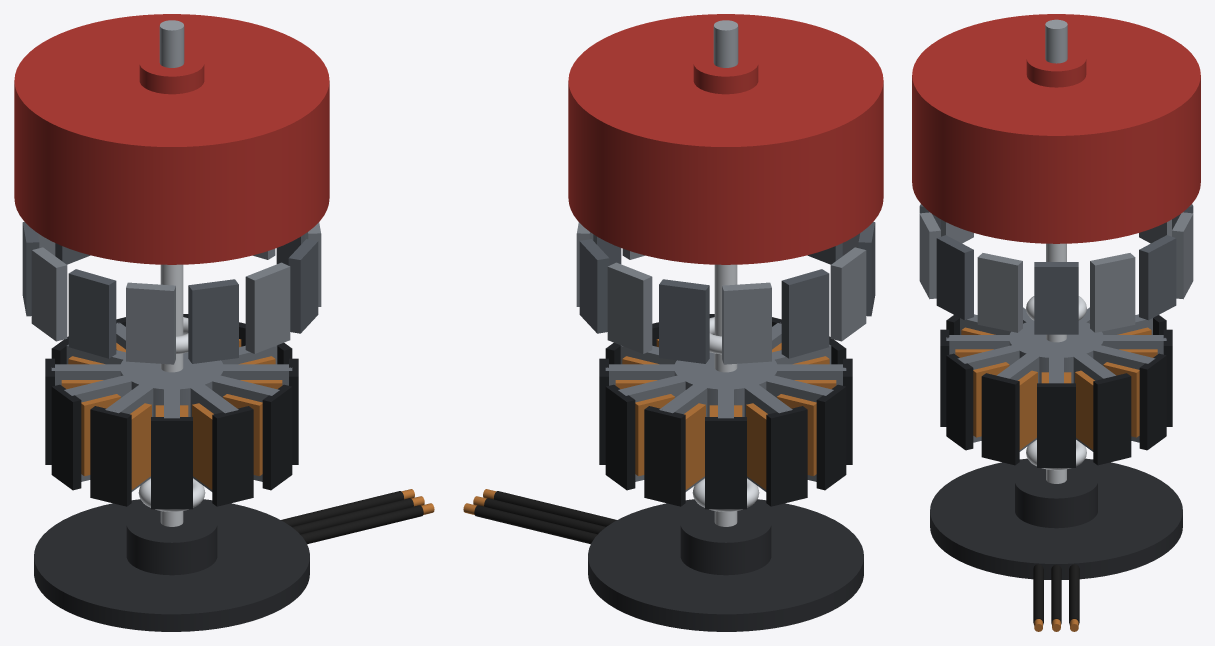
Rendered from motor.glb.
3 views of the same model, side by side, from view 1: azimuth 30°, elevation 25°; view 2: azimuth 150°, elevation 25°; view 3: azimuth 270°, elevation 25° (orthographic). The views are drawn at different scales.
Visible parts, largest first — view 1: bell_wall, stator, bell_top, base_disc, base_boss, magnet_10, base, magnet_9, magnet_8, magnet_11, magnet_7, stator_core (+6 smaller); view 2: bell_wall, stator, bell_top, base_disc, base_boss, magnet_4, base, magnet_5, magnet_6, magnet_3, magnet_7, stator_core (+6 smaller); view 3: bell_wall, stator, bell_top, base_disc, base_boss, magnet_1, magnet_13, magnet_0, magnet_2, magnet_12, stator_core, base (+8 smaller).
Boxes of the visible parts, left/top/right/bottom form: bell_wall: left=14, top=81, right=329, bottom=264; stator: left=45, top=314, right=298, bottom=509; bell_top: left=14, top=14, right=329, bottom=158; base_disc: left=34, top=499, right=309, bottom=631; base_boss: left=126, top=507, right=217, bottom=575; magnet_10: left=188, top=279, right=238, bottom=363; base: left=281, top=489, right=434, bottom=544; magnet_9: left=126, top=282, right=175, bottom=364; magnet_8: left=68, top=269, right=116, bottom=358; magnet_11: left=245, top=262, right=290, bottom=353; magnet_7: left=31, top=247, right=67, bottom=341; stator_core: left=120, top=352, right=223, bottom=416; bell_wall: left=568, top=81, right=883, bottom=264; stator: left=599, top=314, right=852, bottom=509; bell_top: left=568, top=14, right=883, bottom=158; base_disc: left=588, top=499, right=863, bottom=631; base_boss: left=680, top=507, right=771, bottom=575; magnet_4: left=659, top=279, right=709, bottom=363; base: left=463, top=489, right=616, bottom=544; magnet_5: left=722, top=282, right=771, bottom=364; magnet_6: left=781, top=269, right=829, bottom=358; magnet_3: left=607, top=262, right=652, bottom=353; magnet_7: left=830, top=247, right=866, bottom=341; stator_core: left=674, top=352, right=777, bottom=416; bell_wall: left=912, top=75, right=1200, bottom=243; stator: left=940, top=307, right=1172, bottom=467; bell_top: left=912, top=14, right=1200, bottom=146; base_disc: left=930, top=458, right=1182, bottom=579; base_boss: left=1015, top=466, right=1097, bottom=528; magnet_1: left=1090, top=253, right=1135, bottom=332; magnet_13: left=977, top=253, right=1022, bottom=332; magnet_0: left=1034, top=262, right=1078, bottom=334; magnet_2: left=1139, top=235, right=1176, bottom=320; magnet_12: left=936, top=235, right=973, bottom=320; stator_core: left=1009, top=321, right=1103, bottom=383; base: left=1033, top=564, right=1079, bottom=631.
Size of the model in its own units: 2.75 by 3.72 by 1.94.
